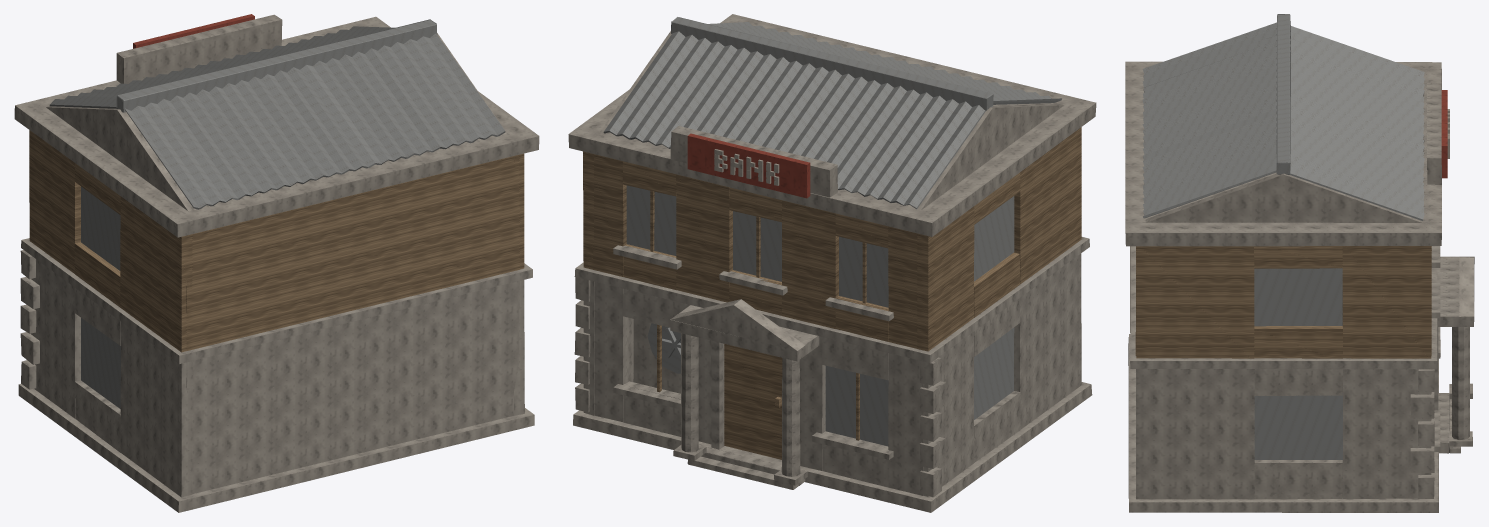
Rendered from homestead_bank.glb.
3 views of the same model, side by side, from view 1: azimuth 30°, elevation 25°; view 2: azimuth 150°, elevation 25°; view 3: azimuth 270°, elevation 25° (orthographic). The views are drawn at different scales.
Parts seen in each view (by area): view 1: HomesteadBank; view 2: HomesteadBank, Door; view 3: HomesteadBank.
Part boxes in pixels (left/top/right/bottom): HomesteadBank: left=14, top=14, right=539, bottom=512; HomesteadBank: left=568, top=14, right=1096, bottom=512; Door: left=724, top=344, right=782, bottom=459; HomesteadBank: left=1125, top=14, right=1474, bottom=512.
Bounding box in the file's own units: 7.68 × 7.13 × 6.62.
Materials: 4 (4 with a texture image).
